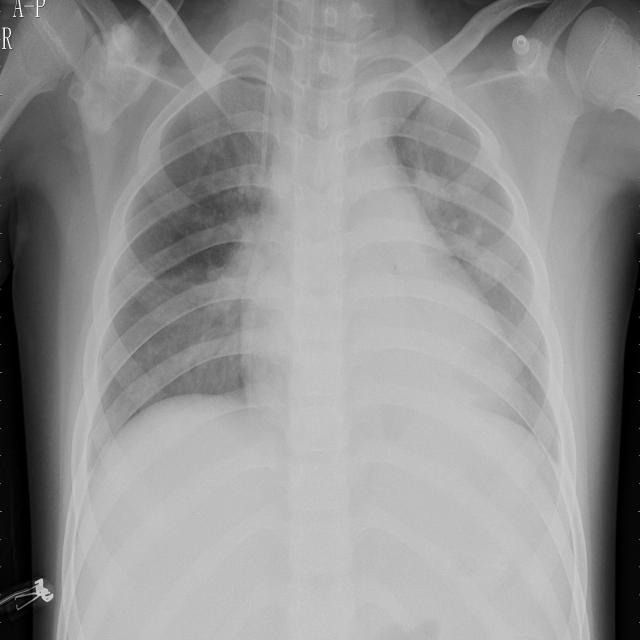low-pneumonia: (163, 228, 246, 408), (423, 144, 518, 299)
